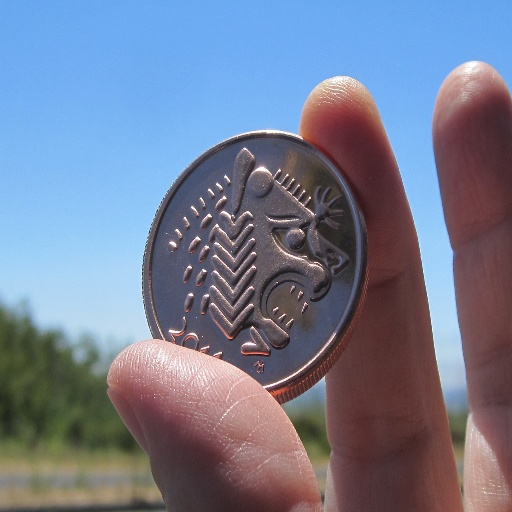hand: (108, 74, 511, 511)
